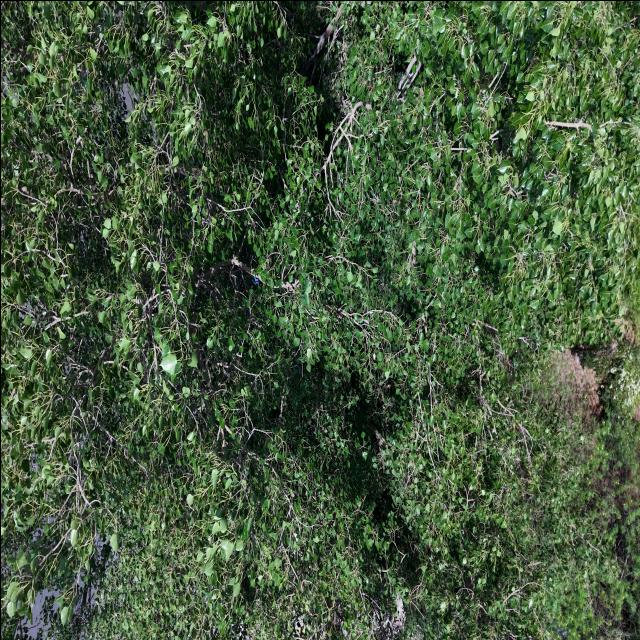VEGETATION_TREE: (1, 1, 639, 639)
